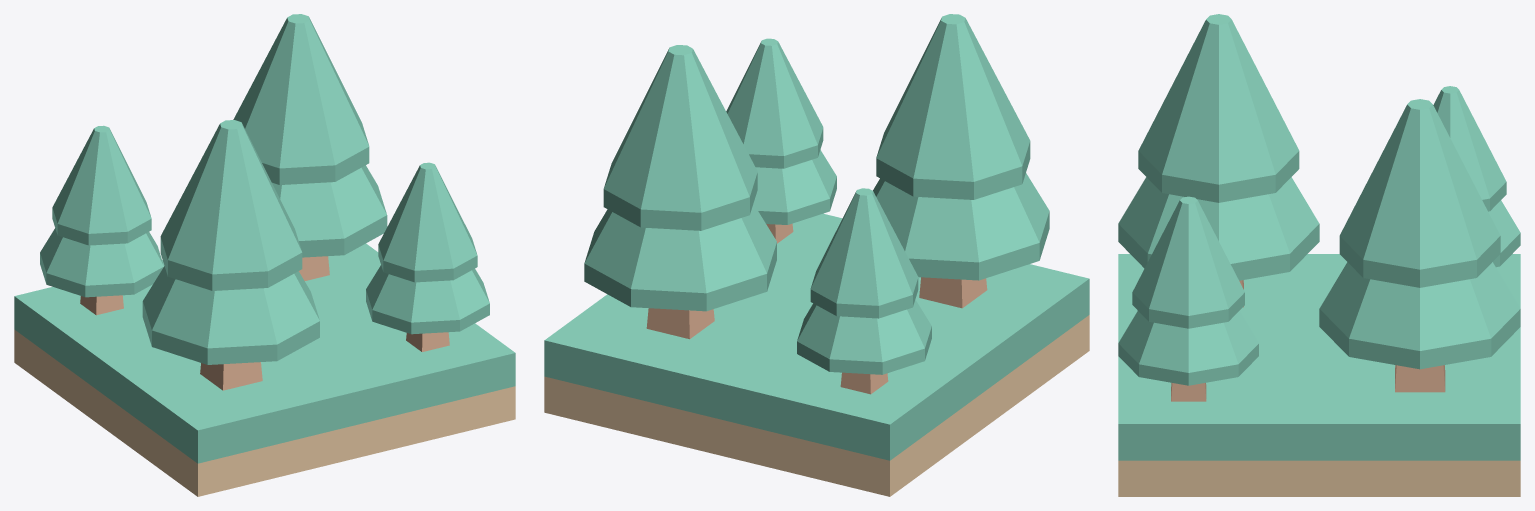
Rendered from terrain_tree2.gltf.
3 renders of one model, left to right at view 1: azimuth 30°, elevation 25°; view 2: azimuth 150°, elevation 25°; view 3: azimuth 270°, elevation 25°, orthographic. The views are drawn at different scales.
Visible parts, largest first — view 1: tile_treeQuad, tree.002, tree.003, tree.001, tree; view 2: tile_treeQuad, tree.003, tree.002, tree, tree.001; view 3: tile_treeQuad, tree.003, tree.002, tree.001, tree.
Boxes of the visible parts, x1,y1,x2,y2 form: tile_treeQuad: (14,243,515,496); tree.002: (142,120,319,390); tree.003: (233,14,387,280); tree.001: (366,162,489,351); tree: (40,125,163,315); tile_treeQuad: (544,213,1089,496); tree.003: (584,45,776,339); tree.002: (873,14,1049,308); tree: (797,188,931,394); tree.001: (726,38,836,243); tile_treeQuad: (1118,254,1520,496); tree.003: (1319,99,1520,392); tree.002: (1118,14,1319,307); tree.001: (1118,196,1258,401); tree: (1433,86,1520,267).
Bounding box in the file's own units: 1 × 0.96 × 1.
